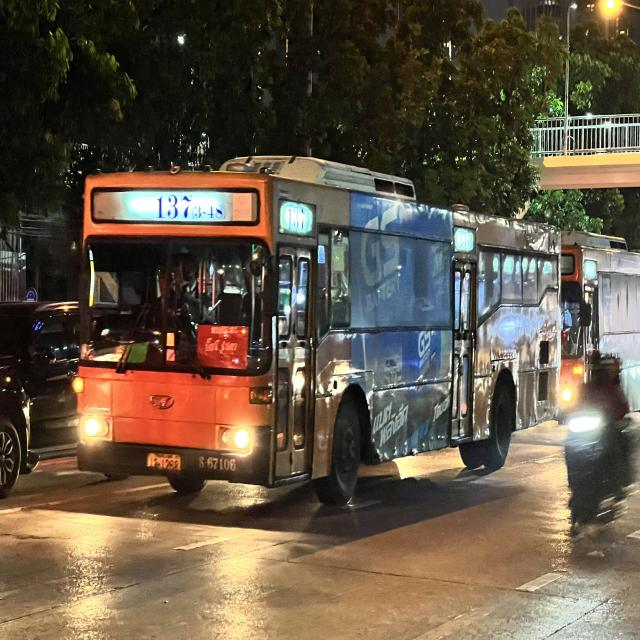BMTA-bus: (72, 157, 564, 511)
Bus-Line-Number: (152, 188, 230, 222)
Destination-Sign-Extra-Bus: (196, 324, 250, 372)
